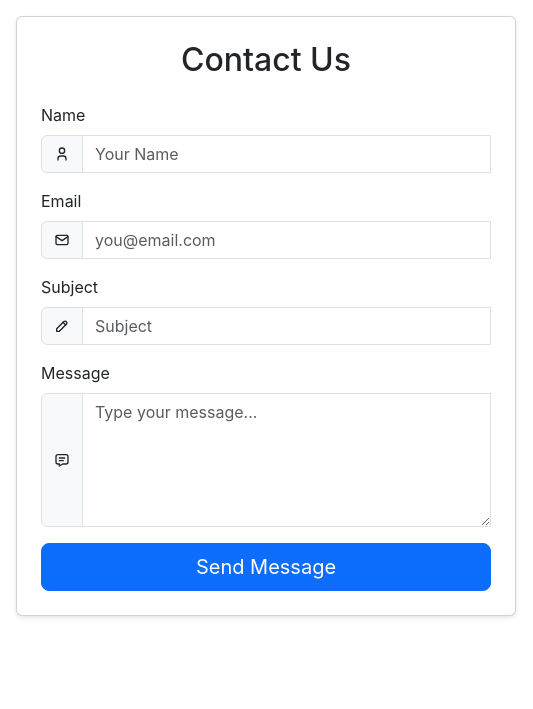
Test: Contact Page › shows error message on failed submit
Type "Test User" into the field labelled "Name" at (286, 154), box [82,135,491,173]
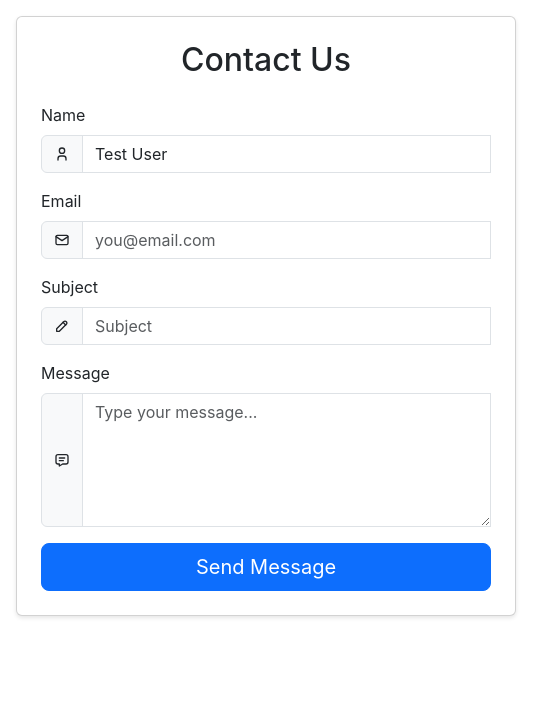
Type "test@example.com" into the field labelled "Email" at (286, 240), box [82,221,491,259]
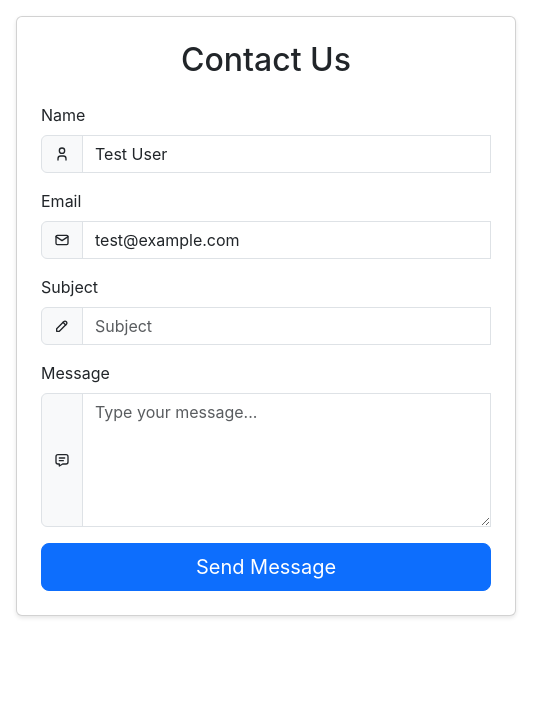
Type "Test Subject" into the field labelled "Subject" at (286, 326), box [82,307,491,345]
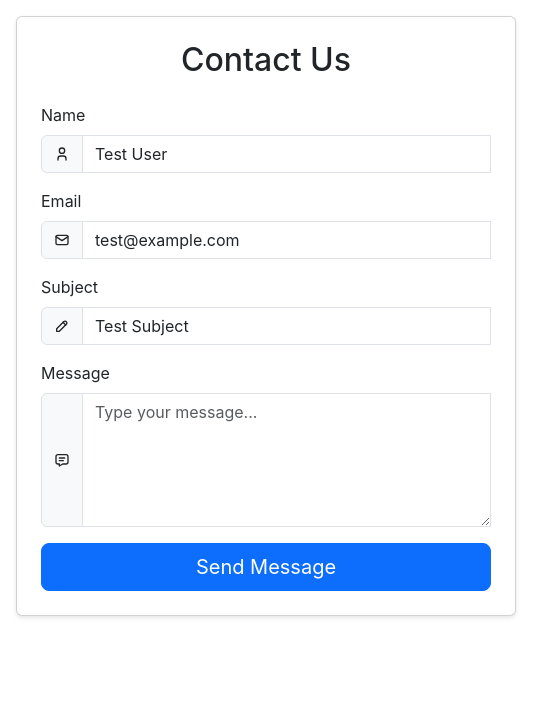
Type "Test message" into the text box labelled "Message" at (286, 460), box [82,393,491,527]
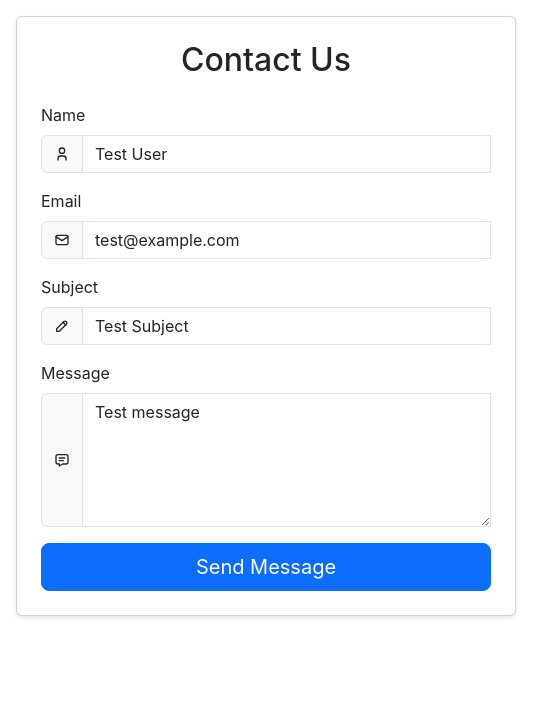
Click the button "Send Message" at (266, 567), box [41,543,491,591]
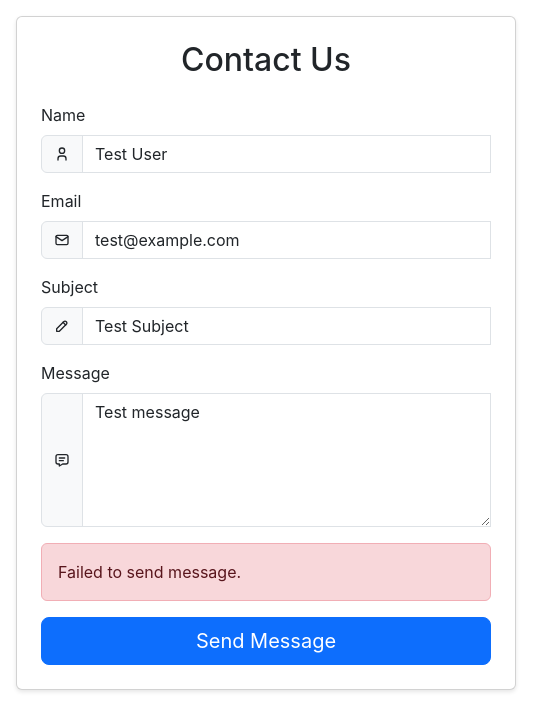
Check: the text "Failed to send message." is shown, box [41,543,491,601]
